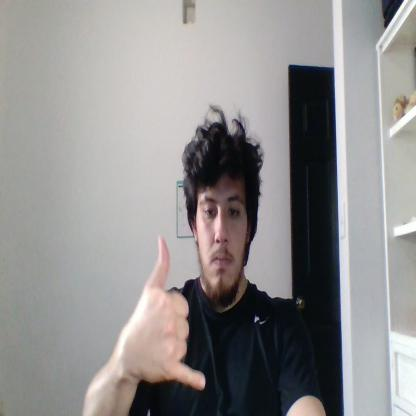Y: (136, 236, 205, 387)
